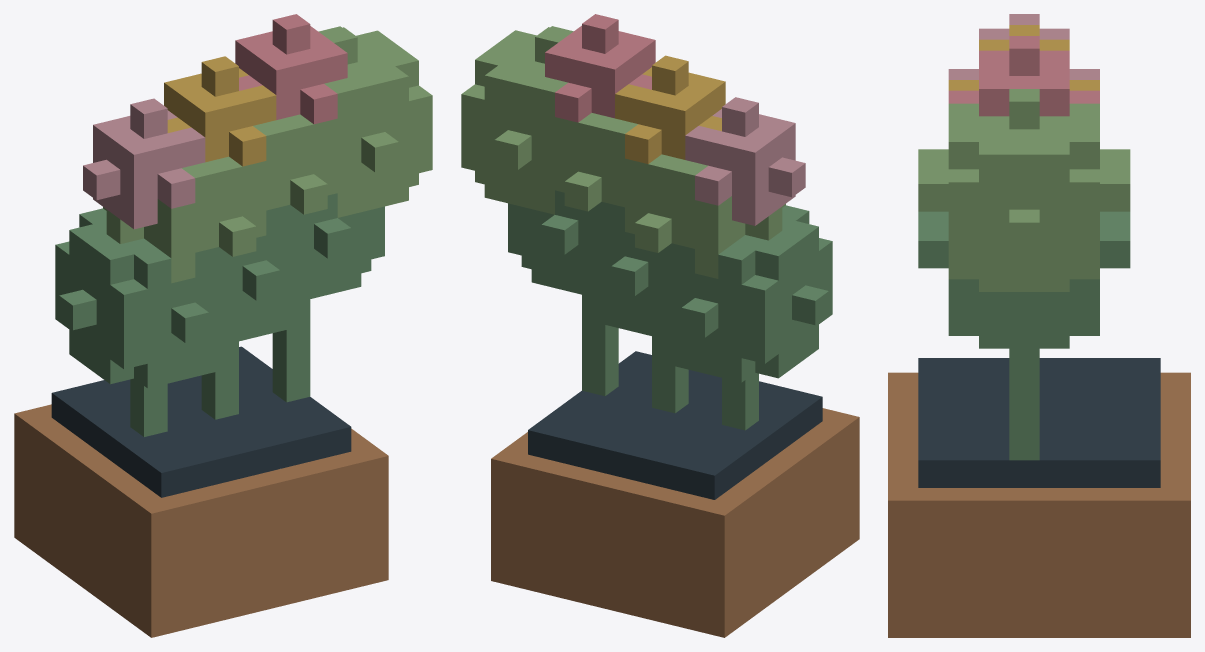
The model's file is beauty-14.glb.
3 renders of one model, left to right at view 1: azimuth 30°, elevation 25°; view 2: azimuth 150°, elevation 25°; view 3: azimuth 270°, elevation 25°, orthographic. The views are drawn at different scales.
Parts seen in each view (by area): view 1: Flower vase; view 2: Flower vase; view 3: Flower vase.
Boxes of the visible parts, <box> form: Flower vase: <box>14,14,432,637</box>; Flower vase: <box>461,14,859,637</box>; Flower vase: <box>888,14,1190,637</box>.
Size of the model in its own units: 1.2 by 1.68 by 0.8.
